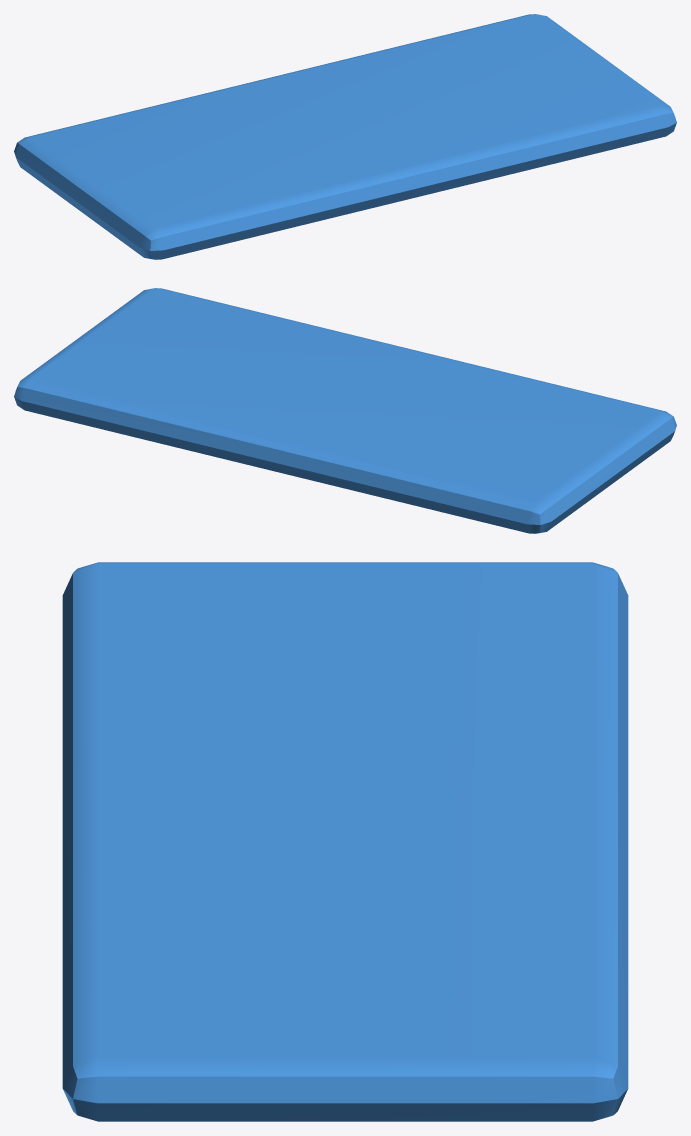
The model's file is Bridge.glb.
3 views of the same model, one above another, from view 1: azimuth 30°, elevation 25°; view 2: azimuth 150°, elevation 25°; view 3: azimuth 270°, elevation 25° (orthographic). The views are drawn at different scales.
Visible parts, largest first — view 1: Box 2; view 2: Box 2; view 3: Box 2.
Part boxes in pixels (box(x1,y1,x2,y2)): Box 2: box(14, 14, 676, 259); Box 2: box(14, 288, 676, 533); Box 2: box(62, 562, 628, 1121).
Size of the model in its own units: 10.52 by 0.5974 by 4.81.
